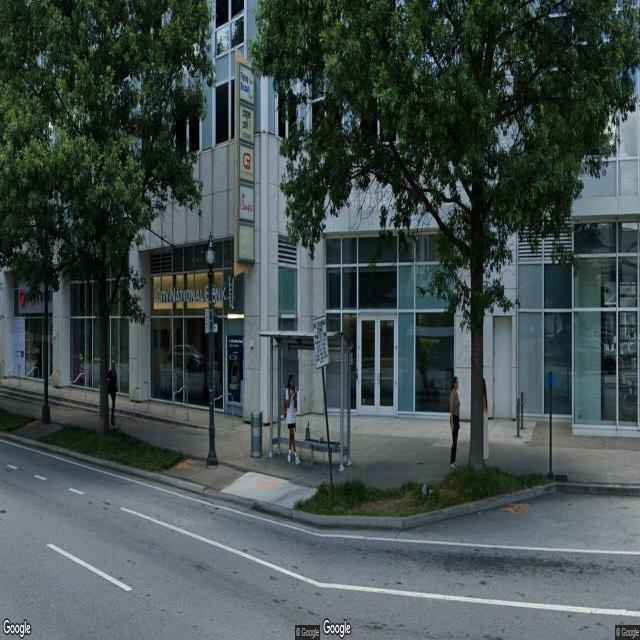seating: (304, 438, 340, 469)
shelter: (256, 329, 354, 473)
trash_can: (250, 410, 262, 460)
